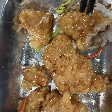guobaorou: (16, 6, 110, 112)
